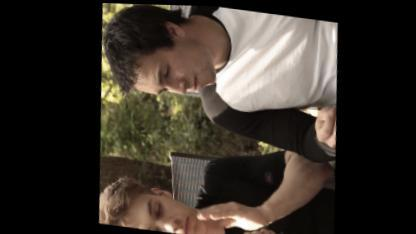knife: (192, 216, 270, 233)
